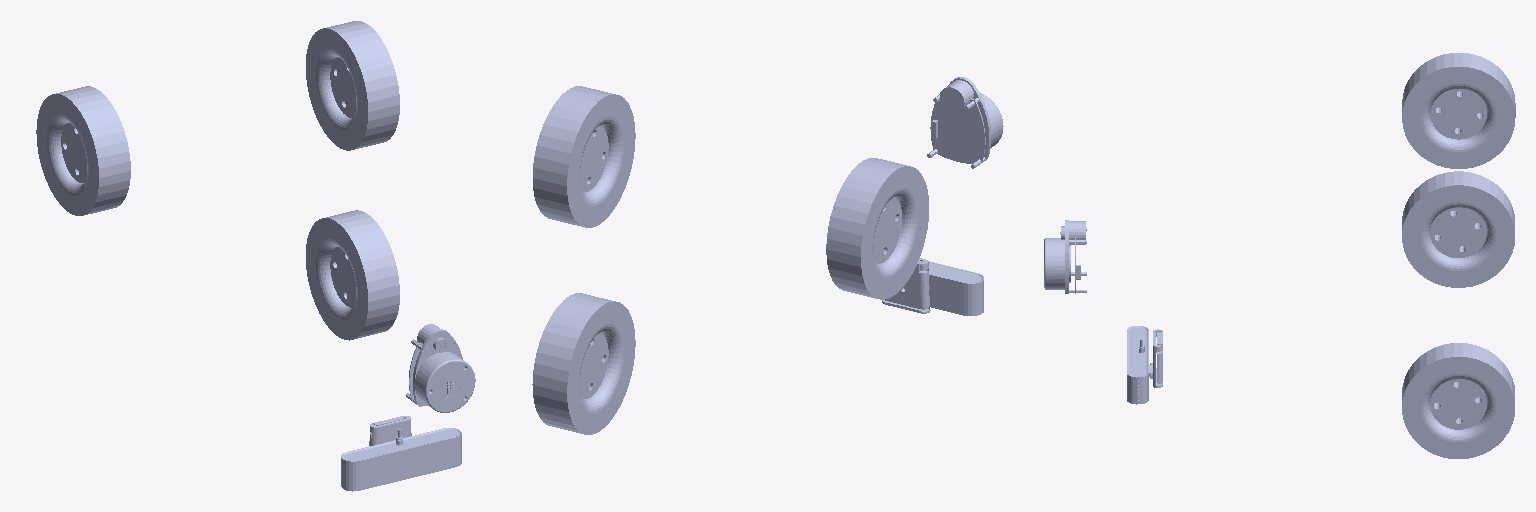
URDF robot description (jared_robot_with_wheels):
<?xml version="1.0" encoding="utf-8"?>
<!-- This URDF was automatically created by SolidWorks to URDF Exporter! Originally created by Stephen Brawner (brawner@gmail.com) 
     Commit Version: 1.6.0-4-g7f85cfe  Build Version: 1.6.7995.38578
     For more information, please see http://wiki.ros.org/sw_urdf_exporter -->
<robot
  name="jared_robot_with_wheels">
  <link
    name="base_footprint">
    <inertial>
      <origin
        xyz="-0.000309087484210829 -0.231774623204699 0.00490440684986201"
        rpy="0 0 0" />
      <mass
        value="45.829187990473" />
      <inertia
        ixx="1.3247027895633"
        ixy="-0.00259104265884517"
        ixz="-0.00186845178508046"
        iyy="0.773725974976496"
        iyz="0.0411131993367175"
        izz="1.15594469557223" />
    </inertial>
    <visual>
      <origin
        xyz="0 0 0"
        rpy="0 0 0" />
      <geometry>
        <mesh
          filename="package://jared_robot_with_wheels/meshes/base_footprint.STL" />
      </geometry>
      <material
        name="">
        <color
          rgba="0.792156862745098 0.819607843137255 0.933333333333333 1" />
      </material>
    </visual>
    <collision>
      <origin
        xyz="0 0 0"
        rpy="0 0 0" />
      <geometry>
        <mesh
          filename="package://jared_robot_with_wheels/meshes/base_footprint.STL" />
      </geometry>
    </collision>
  </link>
  <link
    name="front_right_link">
    <inertial>
      <origin
        xyz="-0.000233568800549525 0.00388215224949372 0.219535415875818"
        rpy="0 0 0" />
      <mass
        value="48.9383586991974" />
      <inertia
        ixx="1.56913843574981"
        ixy="-0.00154016843274957"
        ixz="0.00211023847469076"
        iyy="1.44343461593917"
        iyz="-0.0373053138883436"
        izz="0.925134371309634" />
    </inertial>
    <visual>
      <origin
        xyz="0 0 0"
        rpy="0 0 0" />
      <geometry>
        <mesh
          filename="package://jared_robot_with_wheels/meshes/front_right_link.STL" />
      </geometry>
      <material
        name="">
        <color
          rgba="1 1 1 1" />
      </material>
    </visual>
    <collision>
      <origin
        xyz="0 0 0"
        rpy="0 0 0" />
      <geometry>
        <mesh
          filename="package://jared_robot_with_wheels/meshes/front_right_link.STL" />
      </geometry>
    </collision>
  </link>
  <joint
    name="front_right_joint"
    type="revolute">
    <origin
      xyz="0 0 0"
      rpy="1.5707963267949 0 0" />
    <parent
      link="base_footprint" />
    <child
      link="front_right_link" />
    <axis
      xyz="-1 0 0" />
    <limit
      lower="0"
      upper="0"
      effort="0"
      velocity="0" />
  </joint>
  <link
    name="back_right_link">
    <inertial>
      <origin
        xyz="-0.188595 0.127041605346971 -0.0204638010416092"
        rpy="0 0 0" />
      <mass
        value="0.672106314046843" />
      <inertia
        ixx="0.0022358710882711"
        ixy="1.18669985448161E-20"
        ixz="4.77668952557858E-22"
        iyy="0.00121366878208572"
        iyz="1.72224751499544E-07"
        izz="0.0012137080517682" />
    </inertial>
    <visual>
      <origin
        xyz="0 0 0"
        rpy="0 0 0" />
      <geometry>
        <mesh
          filename="package://jared_robot_with_wheels/meshes/back_right_link.STL" />
      </geometry>
      <material
        name="">
        <color
          rgba="0.792156862745098 0.819607843137255 0.933333333333333 1" />
      </material>
    </visual>
    <collision>
      <origin
        xyz="0 0 0"
        rpy="0 0 0" />
      <geometry>
        <mesh
          filename="package://jared_robot_with_wheels/meshes/back_right_link.STL" />
      </geometry>
    </collision>
  </link>
  <joint
    name="back_right_joint"
    type="revolute">
    <origin
      xyz="0 0 0"
      rpy="1.5707963267949 0 0" />
    <parent
      link="base_footprint" />
    <child
      link="back_right_link" />
    <axis
      xyz="1 0 0" />
    <limit
      lower="0"
      upper="0"
      effort="0"
      velocity="0" />
  </joint>
  <link
    name="back_left_link">
    <inertial>
      <origin
        xyz="0.188595 0.126968611638409 -0.0203013899175233"
        rpy="0 0 0" />
      <mass
        value="0.672106314046843" />
      <inertia
        ixx="0.0022358710882711"
        ixy="-1.47749794835115E-20"
        ixz="-5.08498084480825E-21"
        iyy="0.001213728039212"
        iyz="-1.68751197173603E-07"
        izz="0.00121364879464192" />
    </inertial>
    <visual>
      <origin
        xyz="0 0 0"
        rpy="0 0 0" />
      <geometry>
        <mesh
          filename="package://jared_robot_with_wheels/meshes/back_left_link.STL" />
      </geometry>
      <material
        name="">
        <color
          rgba="0.792156862745098 0.819607843137255 0.933333333333333 1" />
      </material>
    </visual>
    <collision>
      <origin
        xyz="0 0 0"
        rpy="0 0 0" />
      <geometry>
        <mesh
          filename="package://jared_robot_with_wheels/meshes/back_left_link.STL" />
      </geometry>
    </collision>
  </link>
  <joint
    name="back_left_joint"
    type="revolute">
    <origin
      xyz="0 0 0"
      rpy="1.5707963267949 0 0" />
    <parent
      link="base_footprint" />
    <child
      link="back_left_link" />
    <axis
      xyz="1 0 0" />
    <limit
      lower="0"
      upper="0"
      effort="0"
      velocity="0" />
  </joint>
  <link
    name="front_left_link">
    <inertial>
      <origin
        xyz="0.188595 -0.127032541922988 -0.0202995473440542"
        rpy="0 0 0" />
      <mass
        value="0.672106314046843" />
      <inertia
        ixx="0.0022358710882711"
        ixy="-7.01375136593397E-22"
        ixz="-1.64781567191005E-20"
        iyy="0.00121367321204965"
        iyz="-1.72672243645025E-07"
        izz="0.00121370362180427" />
    </inertial>
    <visual>
      <origin
        xyz="0 0 0"
        rpy="0 0 0" />
      <geometry>
        <mesh
          filename="package://jared_robot_with_wheels/meshes/front_left_link.STL" />
      </geometry>
      <material
        name="">
        <color
          rgba="0.792156862745098 0.819607843137255 0.933333333333333 1" />
      </material>
    </visual>
    <collision>
      <origin
        xyz="0 0 0"
        rpy="0 0 0" />
      <geometry>
        <mesh
          filename="package://jared_robot_with_wheels/meshes/front_left_link.STL" />
      </geometry>
    </collision>
  </link>
  <joint
    name="front_left_joint"
    type="revolute">
    <origin
      xyz="0 0 0"
      rpy="1.5707963267949 0 0" />
    <parent
      link="base_footprint" />
    <child
      link="front_left_link" />
    <axis
      xyz="1 0 0" />
    <limit
      lower="0"
      upper="0"
      effort="0"
      velocity="0" />
  </joint>
  <link
    name="base_laser">
    <inertial>
      <origin
        xyz="0.00548449682867642 -0.00227401415844783 0.513423127732833"
        rpy="0 0 0" />
      <mass
        value="0.170611427740059" />
      <inertia
        ixx="0.000123166325080503"
        ixy="1.02818502430435E-07"
        ixz="3.96362803317277E-07"
        iyy="7.88356333895355E-05"
        iyz="2.02875674243666E-05"
        izz="0.00014078871798285" />
    </inertial>
    <visual>
      <origin
        xyz="0 0 0"
        rpy="0 0 0" />
      <geometry>
        <mesh
          filename="package://jared_robot_with_wheels/meshes/base_laser.STL" />
      </geometry>
      <material
        name="">
        <color
          rgba="0.792156862745098 0.819607843137255 0.933333333333333 1" />
      </material>
    </visual>
    <collision>
      <origin
        xyz="0 0 0"
        rpy="0 0 0" />
      <geometry>
        <mesh
          filename="package://jared_robot_with_wheels/meshes/base_laser.STL" />
      </geometry>
    </collision>
  </link>
  <joint
    name="baser_laser_joint"
    type="fixed">
    <origin
      xyz="0 0 0"
      rpy="1.5707963267949 0 0" />
    <parent
      link="base_footprint" />
    <child
      link="base_laser" />
    <axis
      xyz="0 0 0" />
  </joint>
  <link
    name="base_camera">
    <inertial>
      <origin
        xyz="0.00816075461061211 -0.156095902491559 0.405890121378547"
        rpy="0 0 0" />
      <mass
        value="0.220449863399617" />
      <inertia
        ixx="4.67299149630673E-05"
        ixy="-4.59364629457927E-08"
        ixz="5.50364242676411E-09"
        iyy="0.000406106730886343"
        iyz="-1.59318277923789E-07"
        izz="0.000425232439456108" />
    </inertial>
    <visual>
      <origin
        xyz="0 0 0"
        rpy="0 0 0" />
      <geometry>
        <mesh
          filename="package://jared_robot_with_wheels/meshes/base_camera.STL" />
      </geometry>
      <material
        name="">
        <color
          rgba="0.792156862745098 0.819607843137255 0.933333333333333 1" />
      </material>
    </visual>
    <collision>
      <origin
        xyz="0 0 0"
        rpy="0 0 0" />
      <geometry>
        <mesh
          filename="package://jared_robot_with_wheels/meshes/base_camera.STL" />
      </geometry>
    </collision>
  </link>
  <joint
    name="base_camera_joint"
    type="fixed">
    <origin
      xyz="0 0 0"
      rpy="1.5707963267949 0 0" />
    <parent
      link="base_footprint" />
    <child
      link="base_camera" />
    <axis
      xyz="0 0 0" />
  </joint>
</robot>

--- Facts derived from the render (not from the file) ---
3 views of the same robot in one strip: view 1: azimuth 30°, elevation 25°; view 2: azimuth 150°, elevation 25°; view 3: azimuth 270°, elevation 25° (orthographic).
Robot: jared_robot_with_wheels — 7 links, 6 joints (4 revolute, 2 fixed); root link base_footprint; default pose: every joint at zero.
Links seen in each view (by area): view 1: back_right_link, back_left_link, front_left_link, base_camera, base_laser; view 2: back_right_link, back_left_link, front_left_link, base_laser, base_camera; view 3: back_right_link, back_left_link, front_left_link, base_camera, base_laser.
Boxes of the visible links, <box> form: back_right_link: <box>36,86,130,215</box>; back_left_link: <box>306,21,399,150</box>; front_left_link: <box>306,210,399,340</box>; base_camera: <box>341,416,461,491</box>; base_laser: <box>406,324,475,412</box>; back_right_link: <box>826,158,928,299</box>; back_left_link: <box>533,86,635,227</box>; front_left_link: <box>532,293,635,434</box>; base_laser: <box>927,77,1003,168</box>; base_camera: <box>882,258,983,315</box>; back_right_link: <box>1402,53,1515,168</box>; back_left_link: <box>1402,171,1514,287</box>; front_left_link: <box>1402,343,1514,458</box>; base_camera: <box>1127,326,1162,404</box>; base_laser: <box>1044,220,1086,293</box>.
Size in the robot's own frame: 0.4216 by 0.6325 by 0.406 metres.
5 mesh visuals loaded from 7 distinct referenced files (5 binary STL); not drawn: 1 (reference not matched to a file when rendering), 1 (file found but could not be loaded).
